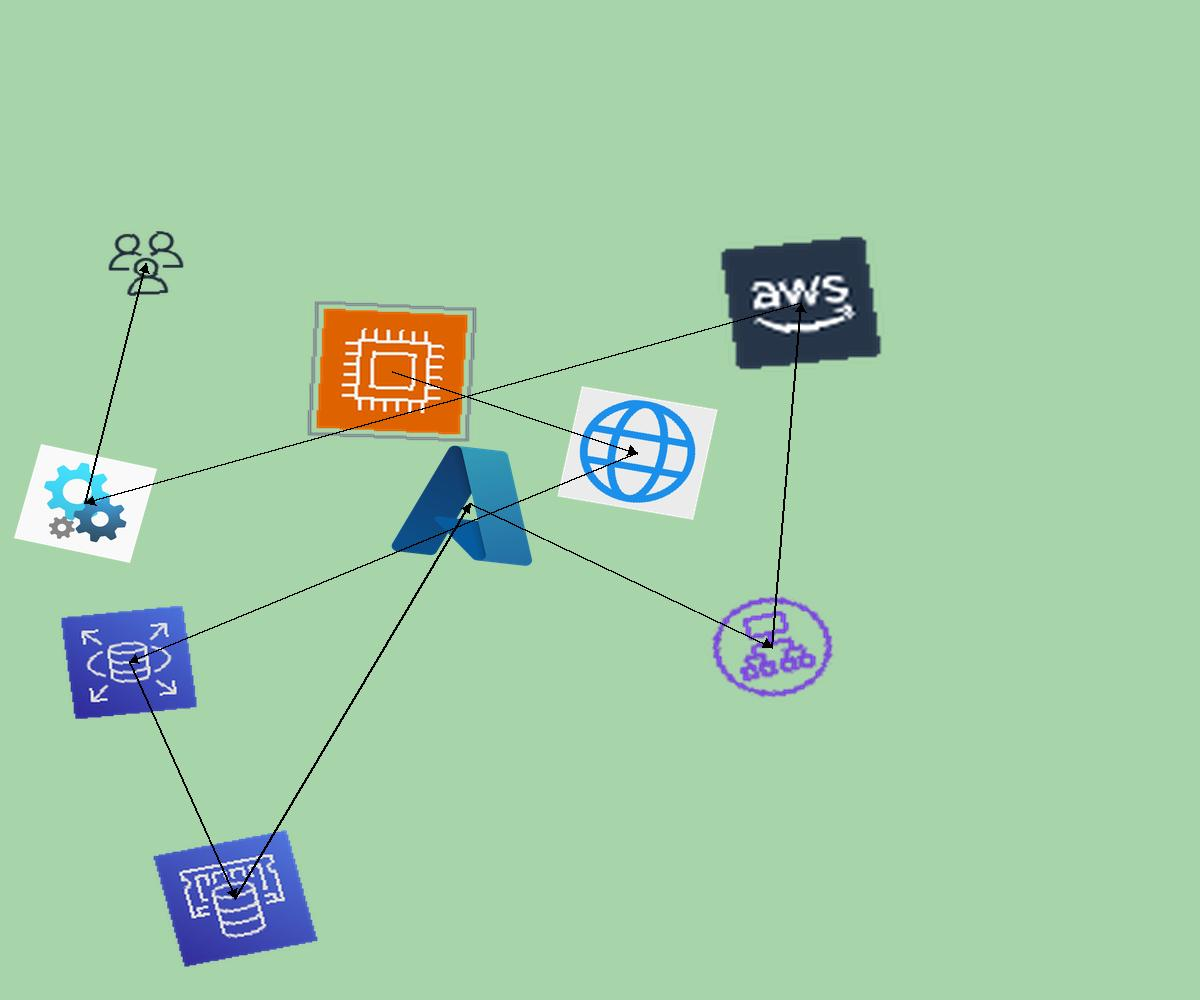AWS-Category_Compute: (306, 300, 478, 443)
AWS-Cloud-logo: (718, 234, 884, 372)
AWS-ElastiCache: (152, 829, 319, 968)
AWS-RDS: (60, 605, 198, 720)
AWS-Res_Elastic-Load-Balancing_Application-Load-Balancer: (692, 580, 853, 714)
AWS-Res_Users: (102, 227, 190, 300)
Azure_api: (14, 444, 157, 563)
Azure_http: (557, 386, 718, 520)
Azure_services: (383, 431, 557, 576)
